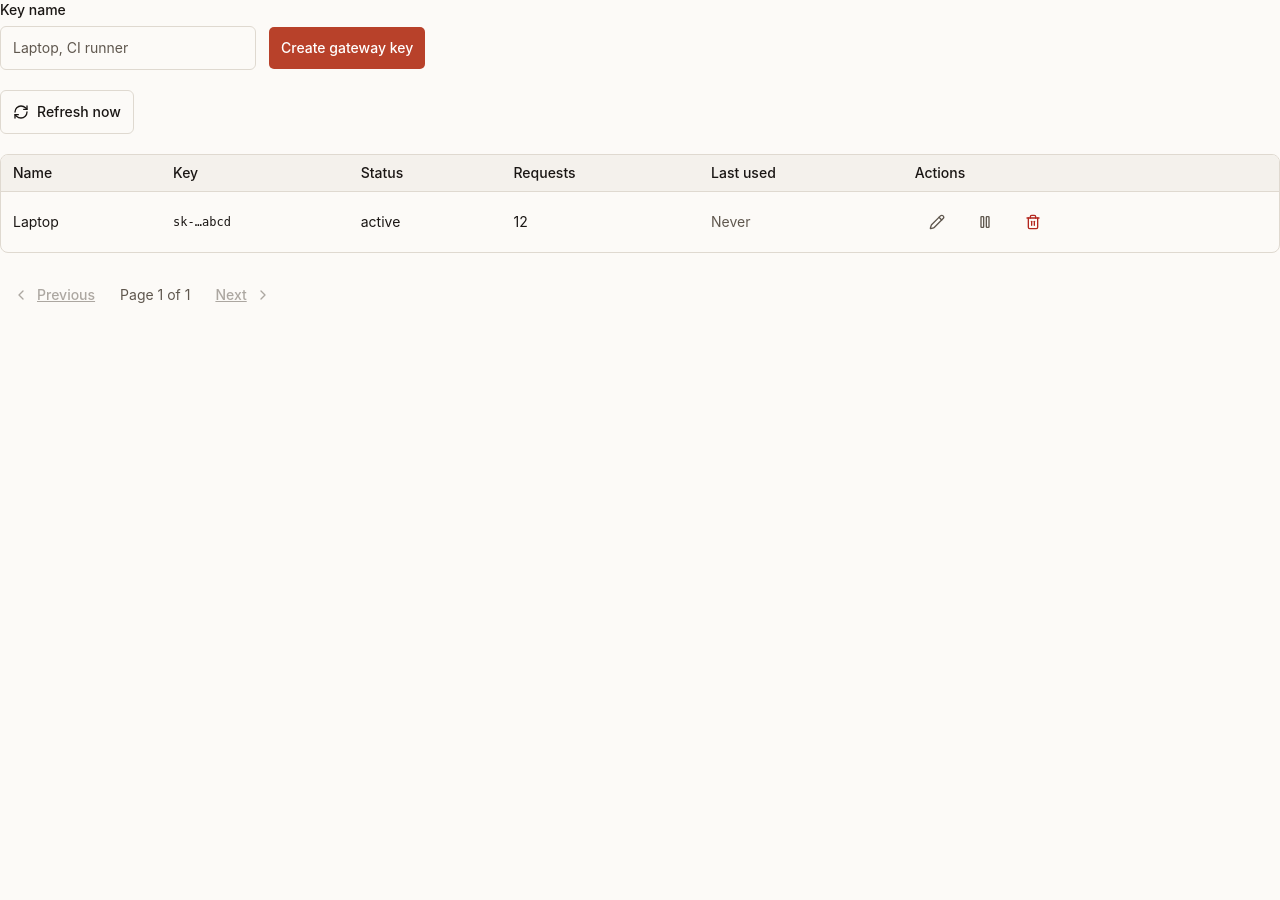
gateway key row actions › takes the row off the screen once the deletion lands
Expected: the table is shown, left=1, top=155, right=1279, bottom=252
Click the button named "Delete": click(1033, 222) left=1011, top=200, right=1055, bottom=244
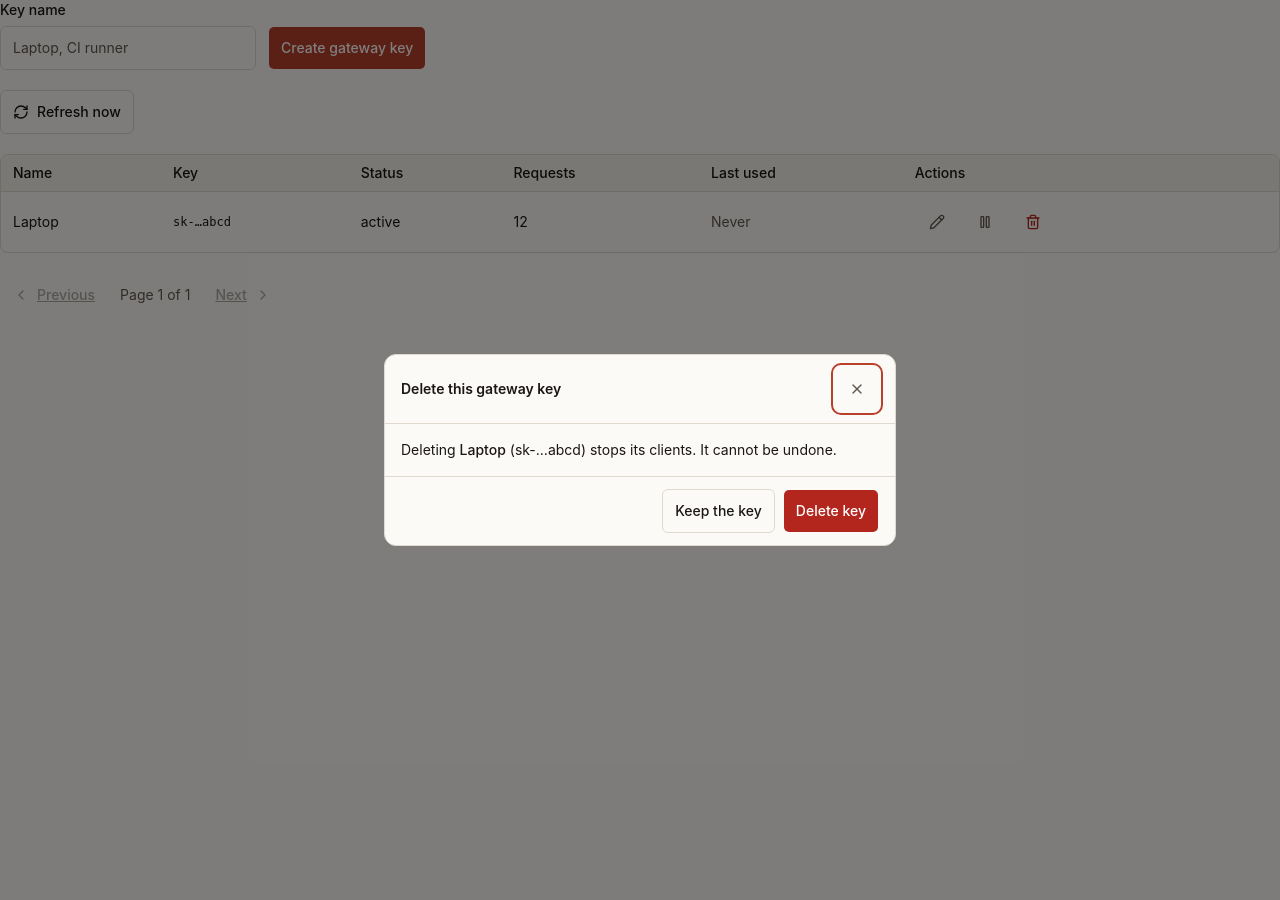
Click the button "Delete key": click(831, 511) left=783, top=489, right=879, bottom=533
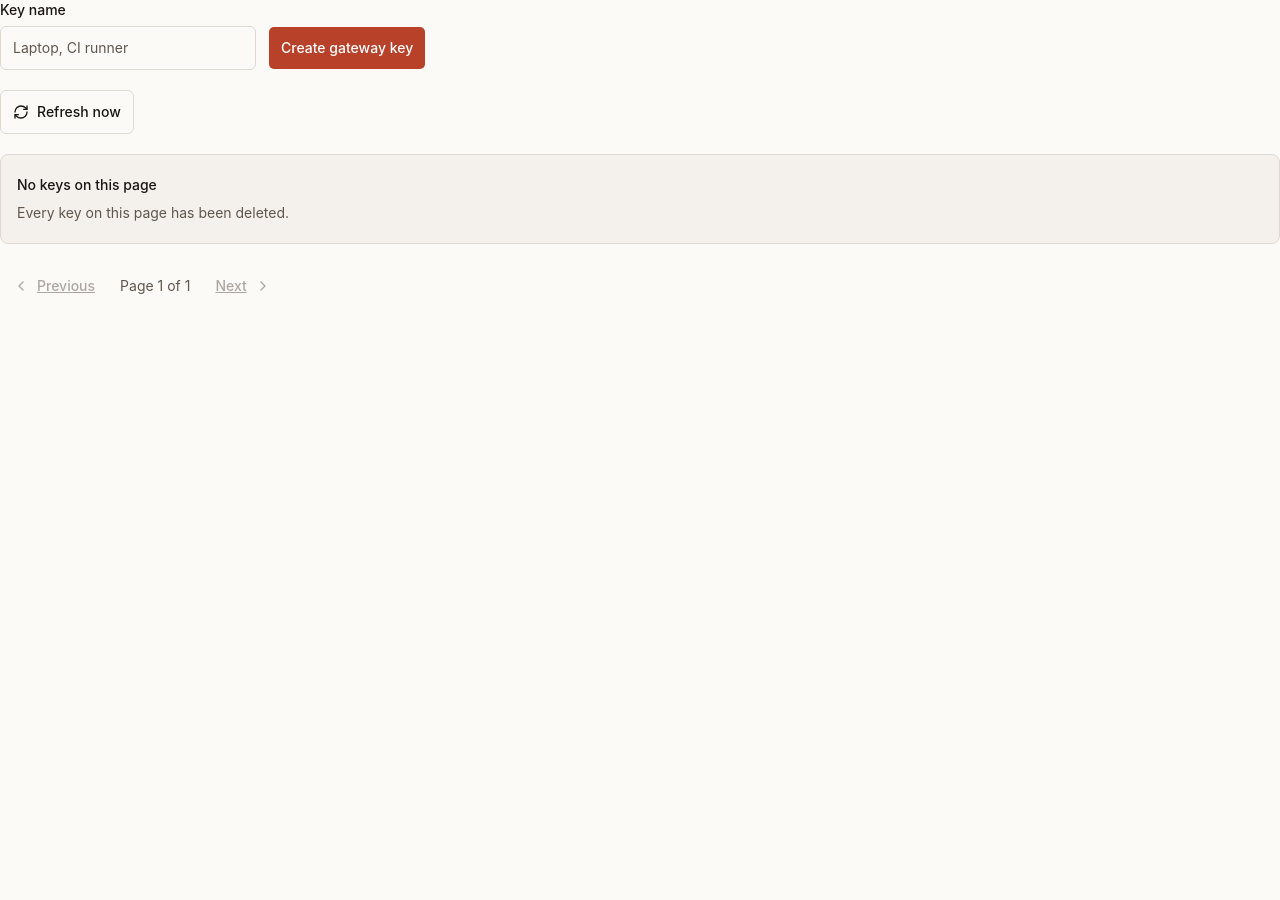
Expected: the text "No keys on this page" is shown, left=17, top=175, right=157, bottom=195
